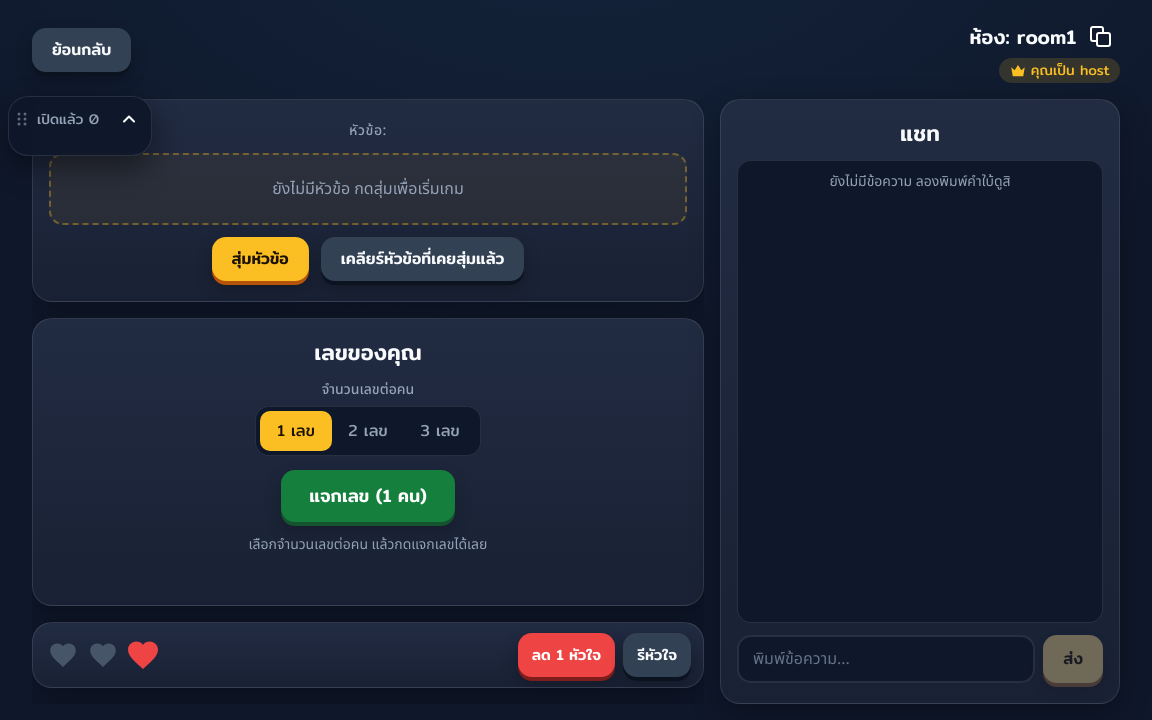
Test: heart › หัวใจเหลือ 1 แล้วกดลดรัว ๆ ไม่ต่ำกว่า 0
Check: the text "หัวข้อ:" is shown, box [349,120,387,141]
Step 1. Click the button "ลด 1 หัวใจ" → (566, 655), box [518,633,615,677]
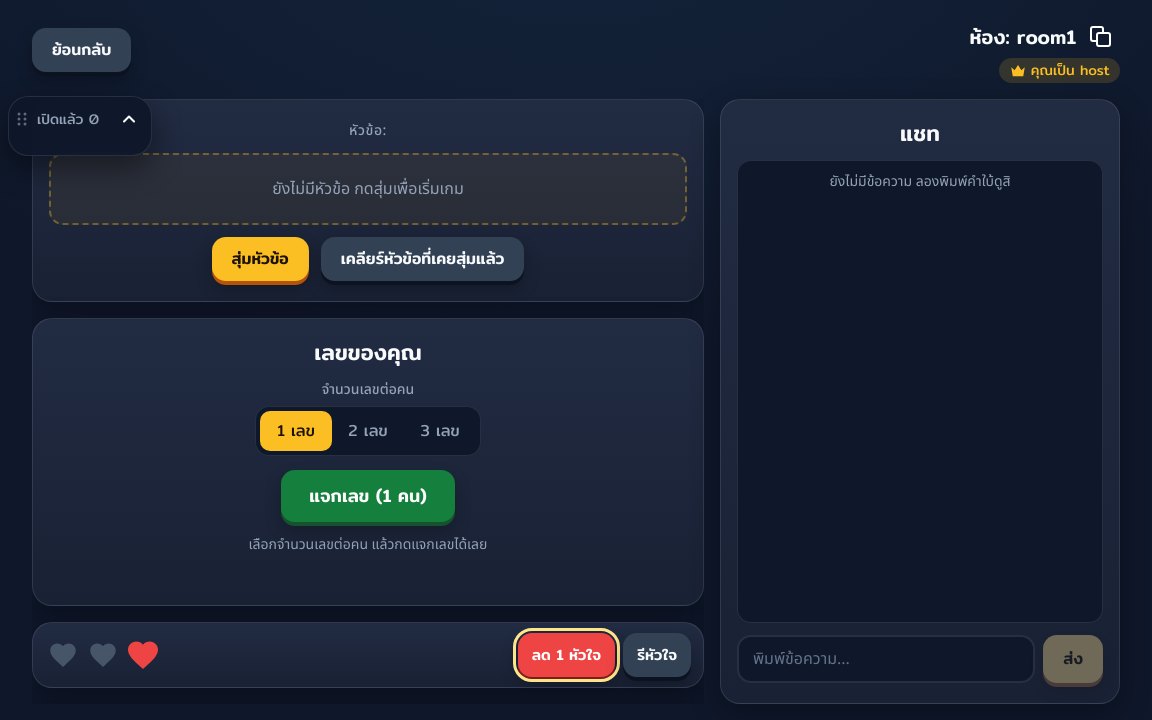
Step 2. Click the button "ลด 1 หัวใจ" → (566, 655), box [518,633,615,677]
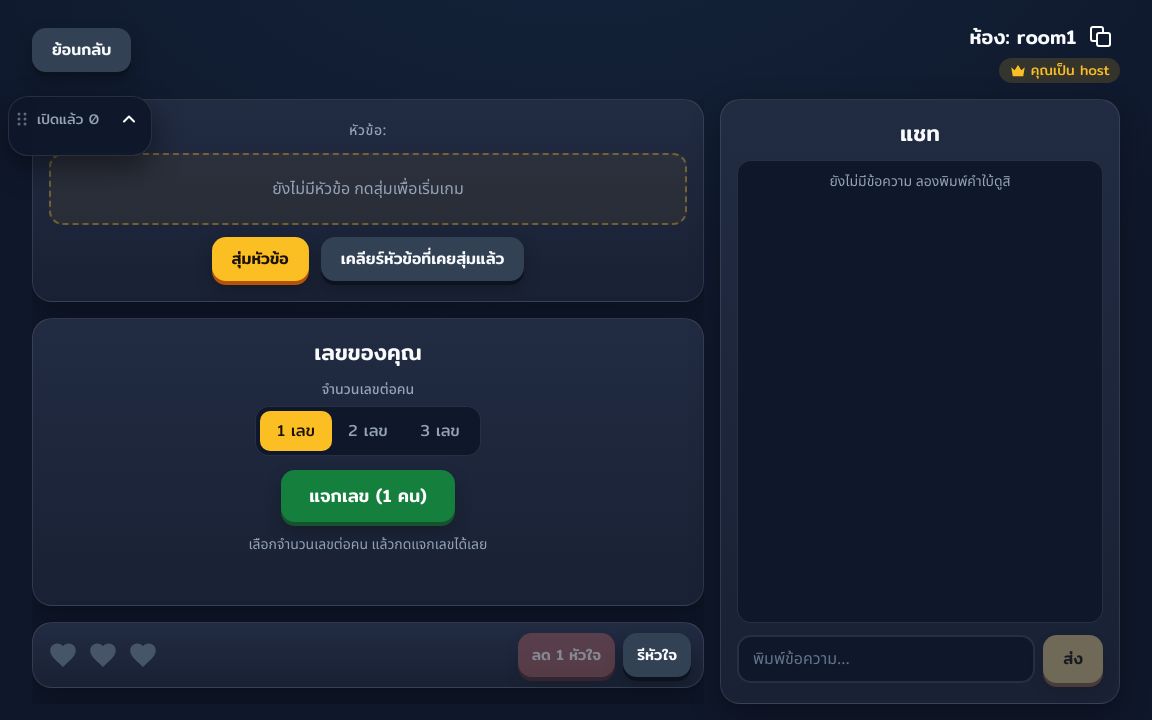
Check: the button "ลด 1 หัวใจ" is disabled, box [518,633,615,677]
